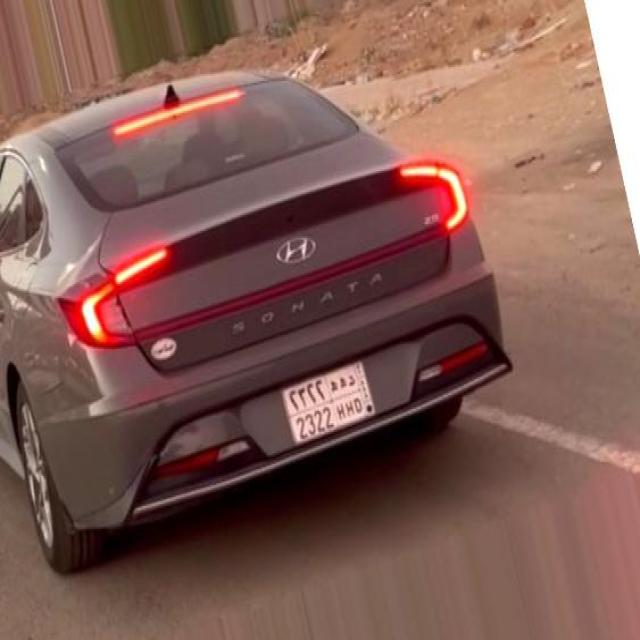Car-plate: (274, 356, 382, 452)
